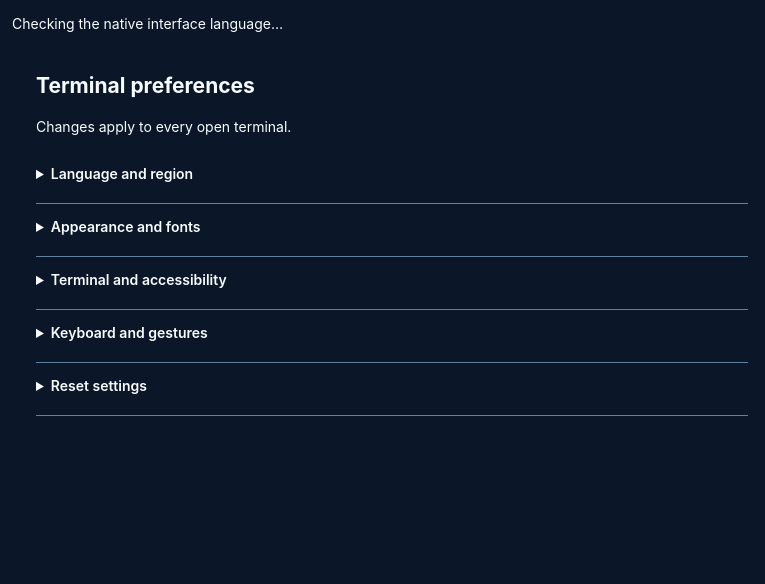
Test: reconciles the visible Preferences language error after a failed save and confirmed native retry
Click the heading "Language and region": [122, 173] box [51,164,193,182]
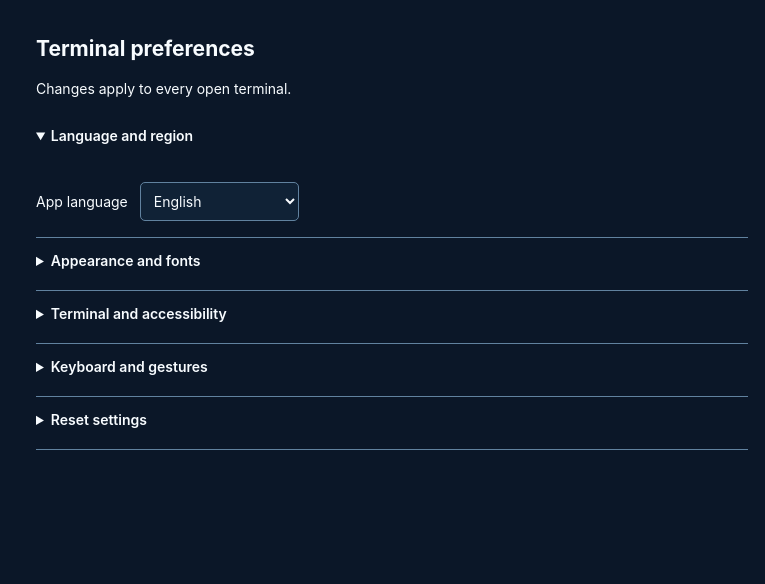
expect the dropdown labelled "App language" is enabled: met
Select "Português (Brasil)" in the dropdown labelled "App language": [219, 201] box [140,182,299,221]
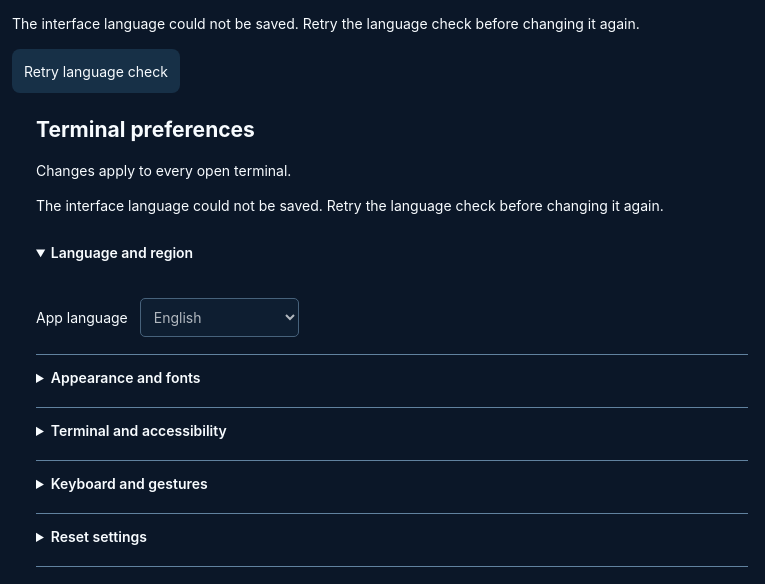
expect the text "The interface language could not be saved. Retry the language check before changing it again." is shown: met, box [12,15,640,32]
Click the button "Retry language check": [96, 71] box [12,49,180,93]
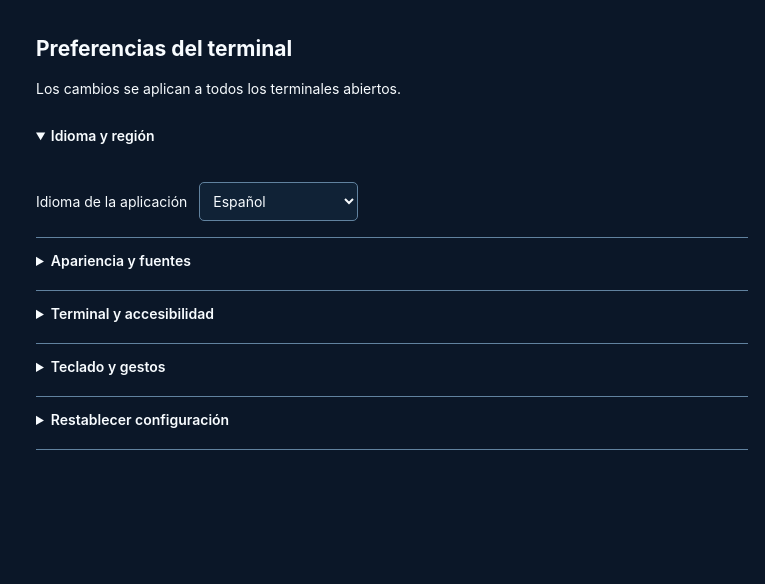
expect the text "The interface language could not be saved. Retry the language check before changing it again." is gone: met
Click the heading "Restablecer configuración": [140, 420] box [51,411,229,428]
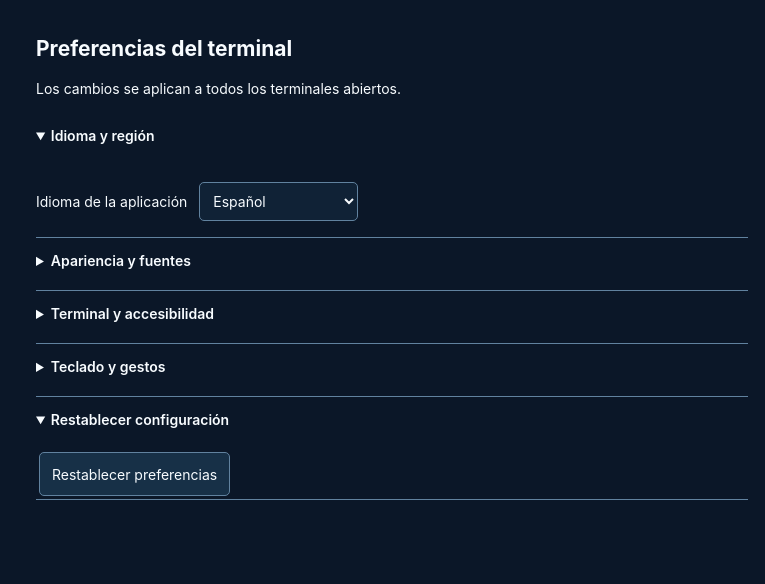
Click the button "Restablecer preferencias": [135, 474] box [39,452,230,496]
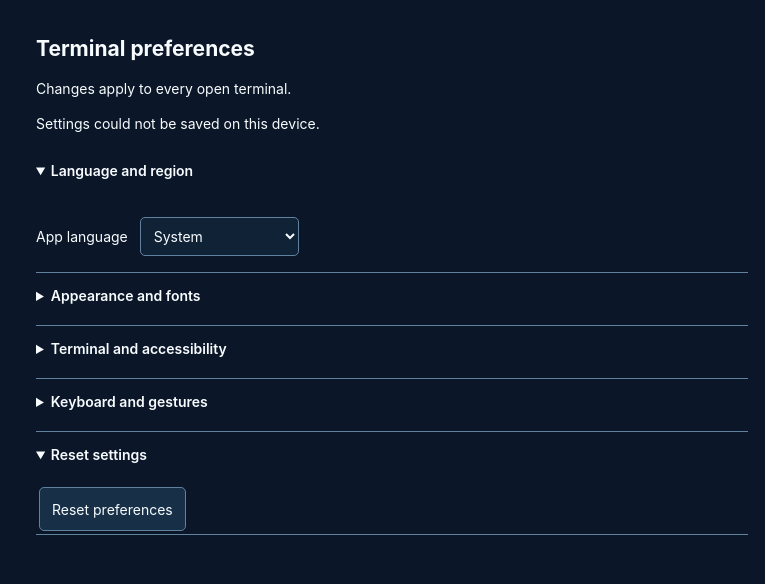
expect the button "Retry language check" is not shown: met
expect the text "Settings could not be saved on this device." is shown: met, box [36,115,320,132]
